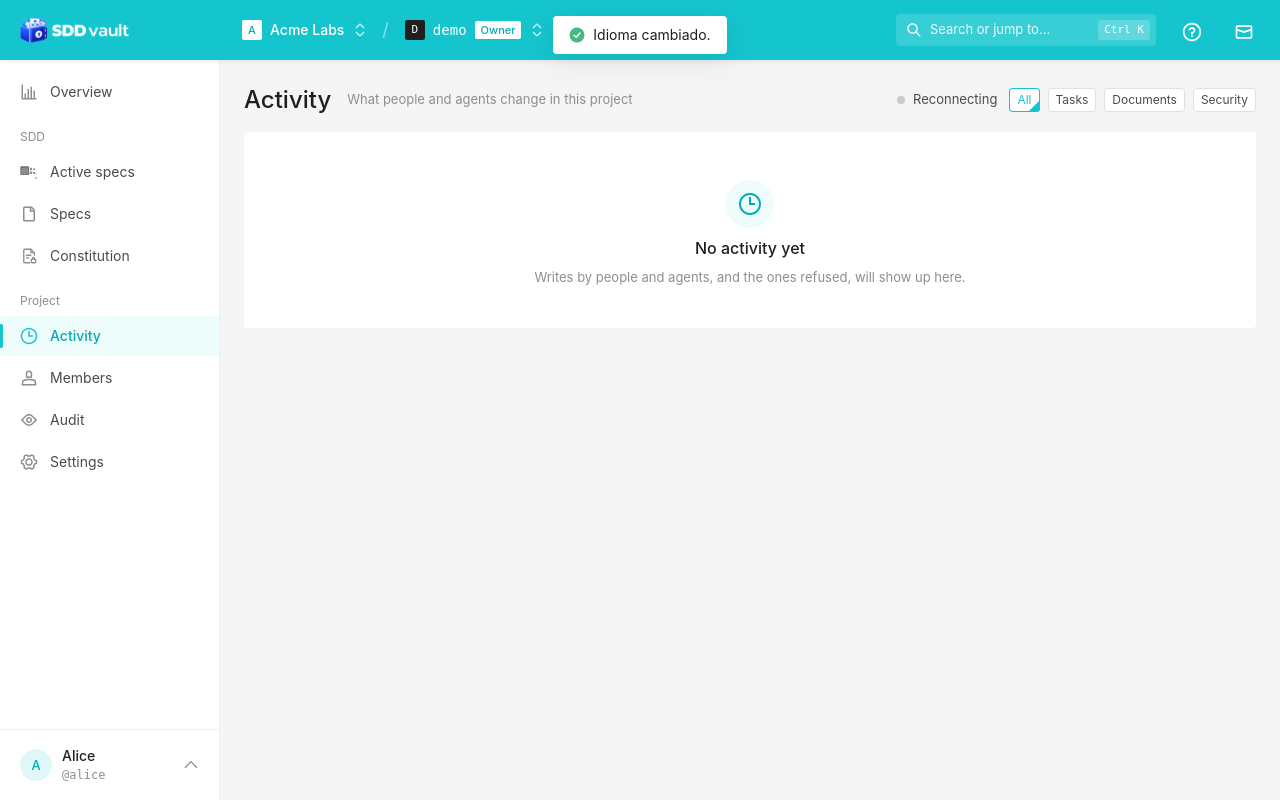
it: the notifications button opens an empty drawer
This screenshot has width=1280, height=800.
Expected: the heading "Activity" is shown, [244, 84, 331, 116]
Click the button named "Notifications" at point(1242, 30), box [1224, 12, 1260, 48]
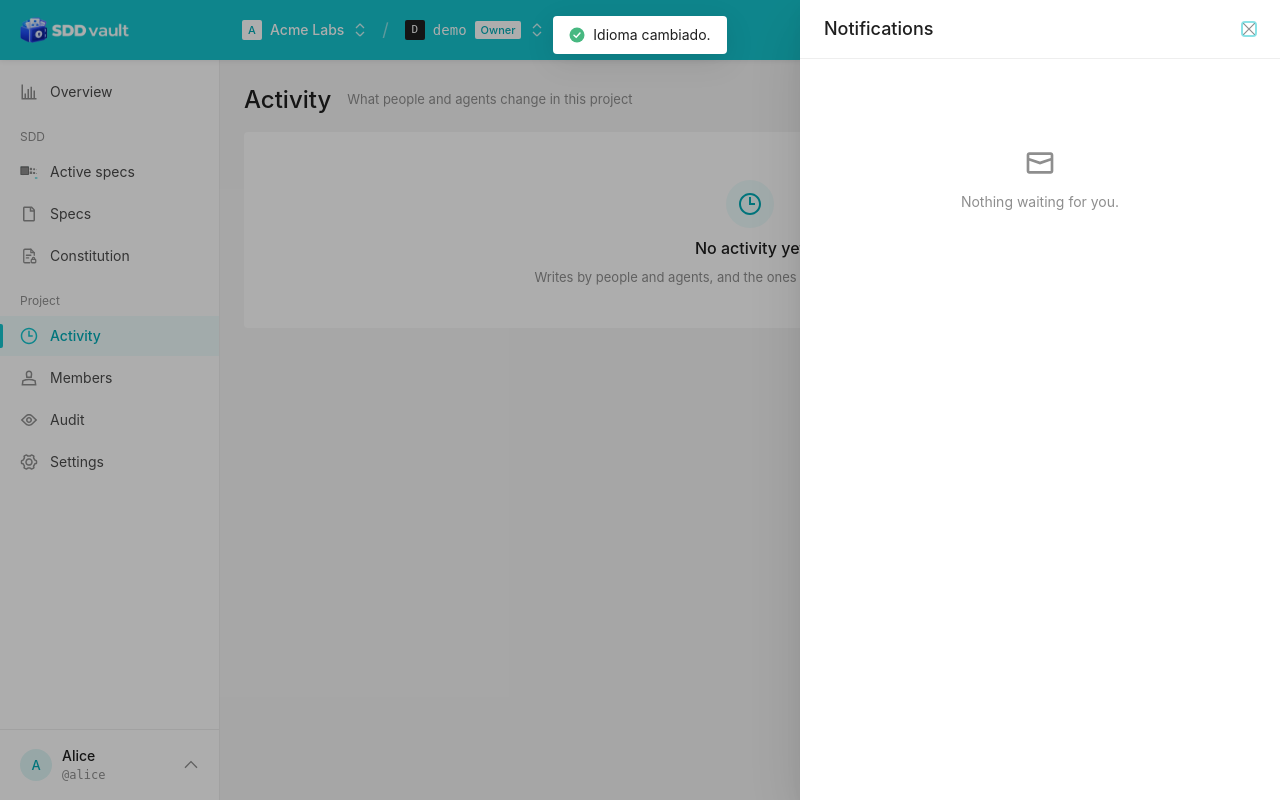
Expected: the text "Nothing waiting for you." is shown, [961, 191, 1119, 213]
Click the button named "Close" at point(1249, 29), box [1242, 22, 1256, 36]
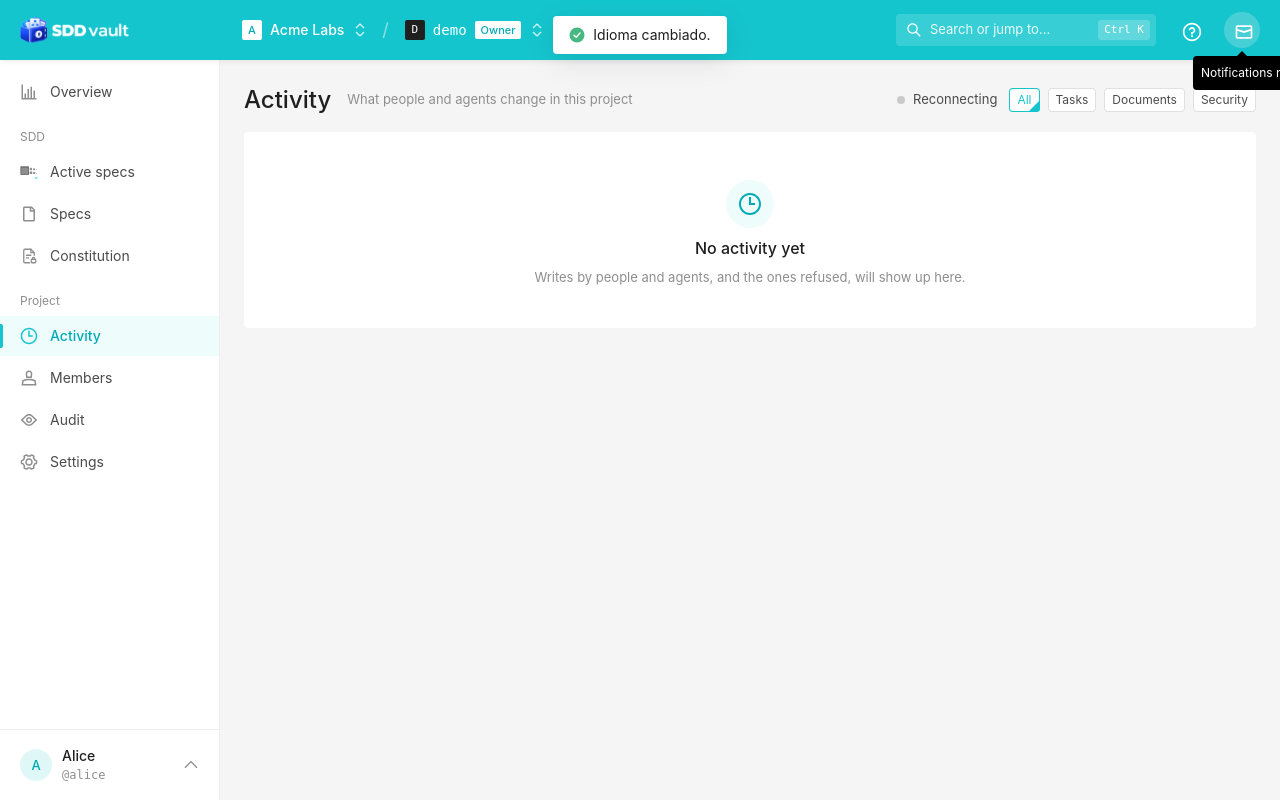
Expected: the dialog is gone
